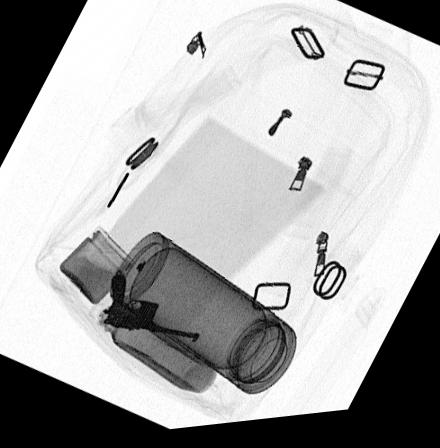Gun: (101, 272, 197, 348)
